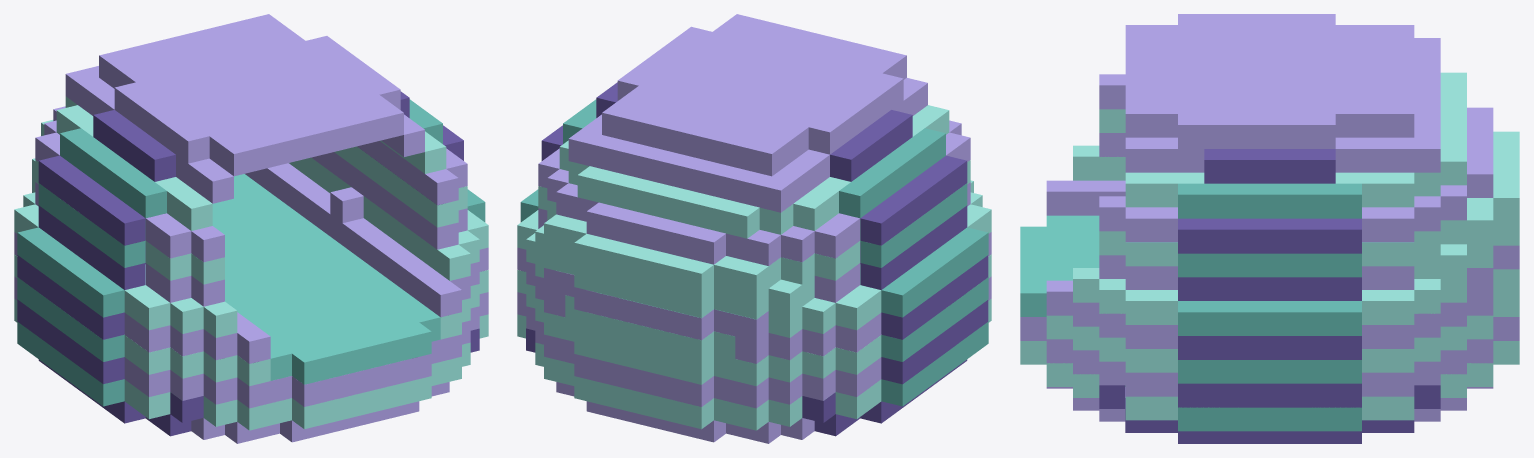
File: 210_fit_pyjama.glb
The picture shows the model from 3 angles, left to right: view 1: azimuth 30°, elevation 25°; view 2: azimuth 150°, elevation 25°; view 3: azimuth 270°, elevation 25°; orthographic projection. The views are drawn at different scales.
Bounding box in the file's own units: 18 × 12 × 19.
